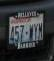4: (10, 26, 15, 43)
5: (14, 25, 20, 42)
7: (19, 24, 24, 41)
M: (38, 21, 43, 39)
